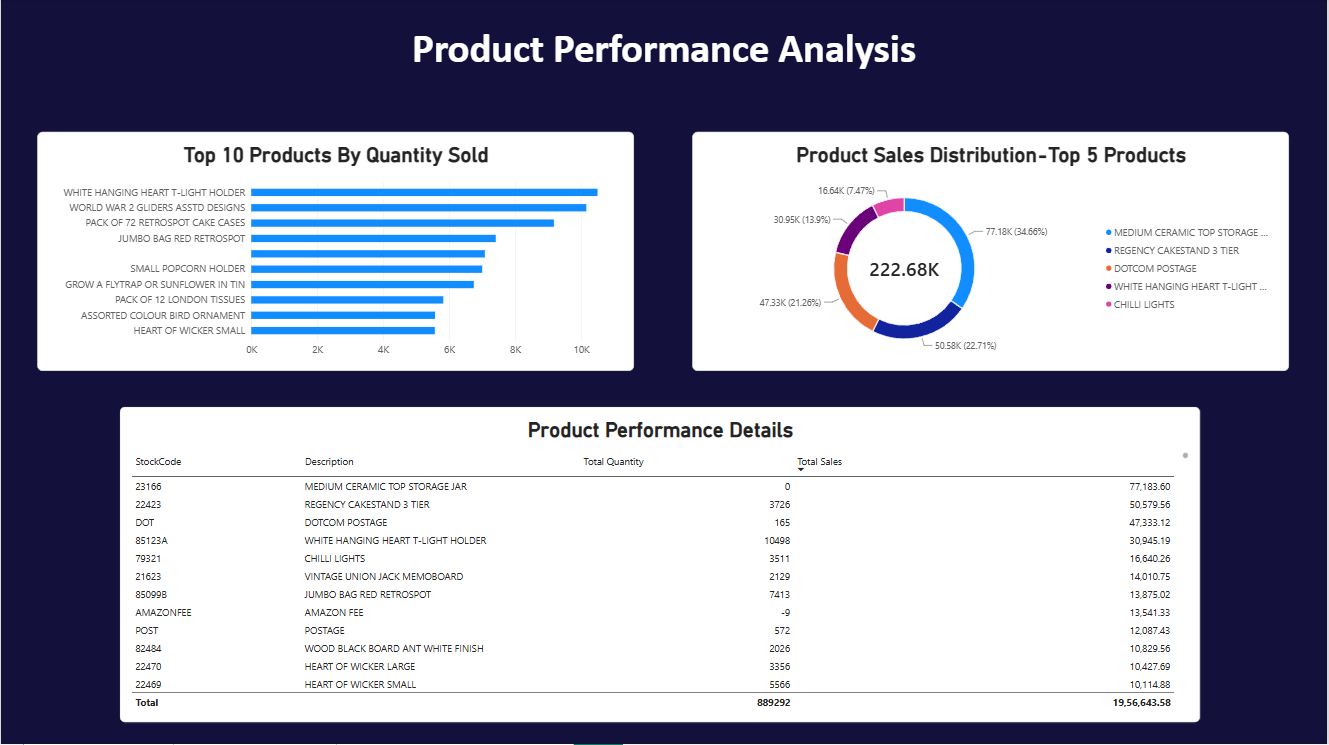

This screenshot's page, from the dashboard's own definition file:
{"tool":"powerbi","page":{"name":"Product Analysis","canvas":[1920,1080],"ordinal":1},"visuals":[{"type":"textbox","box":[0,0,1919.6,160.7],"z":0},{"type":"clusteredBarChart","title":"Top 10 Products By Quantity Sold","fields":{"Category":["retail_analytics online_retail.Description"],"Y":["retail_analytics online_retail.Total Quantity"]},"box":[51.8,192.9,864.3,346.4],"z":1000},{"type":"donutChart","title":"Product Sales Distribution-Top 5 Products","fields":{"Category":["retail_analytics online_retail.Description"],"Y":["retail_analytics online_retail.Total Sales"]},"box":[1000,192.9,864.3,346.4],"z":2000},{"type":"tableEx","title":"Product Performance Details","fields":{"Values":["retail_analytics online_retail.StockCode","retail_analytics online_retail.Description","retail_analytics online_retail.Total Quantity","retail_analytics online_retail.Total Sales"]},"box":[171.4,591.1,1564.3,457.1],"z":3000},{"type":"actionButton","box":[0,0,100,40],"z":4000}]}

Visuals, with their boxes in screenshot pixels (x1, y1, x2, y2), scaled from the page's 1920x1080 canvas onto the 1329x745 screenshot:
textbox: {"x1": 0, "y1": 0, "x2": 1328, "y2": 111}
"Top 10 Products By Quantity Sold" clusteredBarChart: {"x1": 36, "y1": 133, "x2": 634, "y2": 372}
"Product Sales Distribution-Top 5 Products" donutChart: {"x1": 692, "y1": 133, "x2": 1290, "y2": 372}
"Product Performance Details" tableEx: {"x1": 119, "y1": 408, "x2": 1201, "y2": 723}
actionButton: {"x1": 0, "y1": 0, "x2": 69, "y2": 28}
